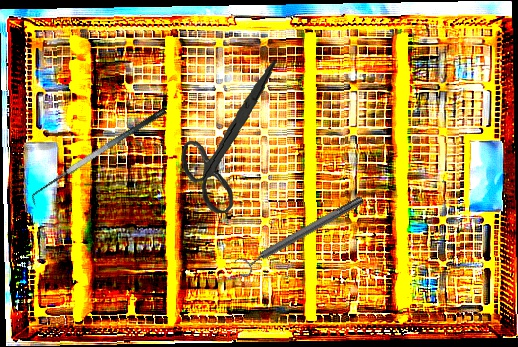Fixation Ring: (231, 190, 369, 280)
Iris Scissors: (174, 60, 288, 216)
Spatula Surgical: (24, 106, 175, 208)
